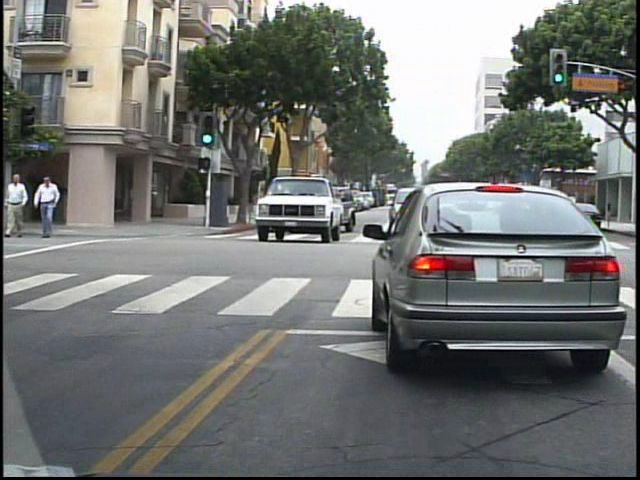person: (8, 169, 39, 242), (40, 173, 69, 242)
